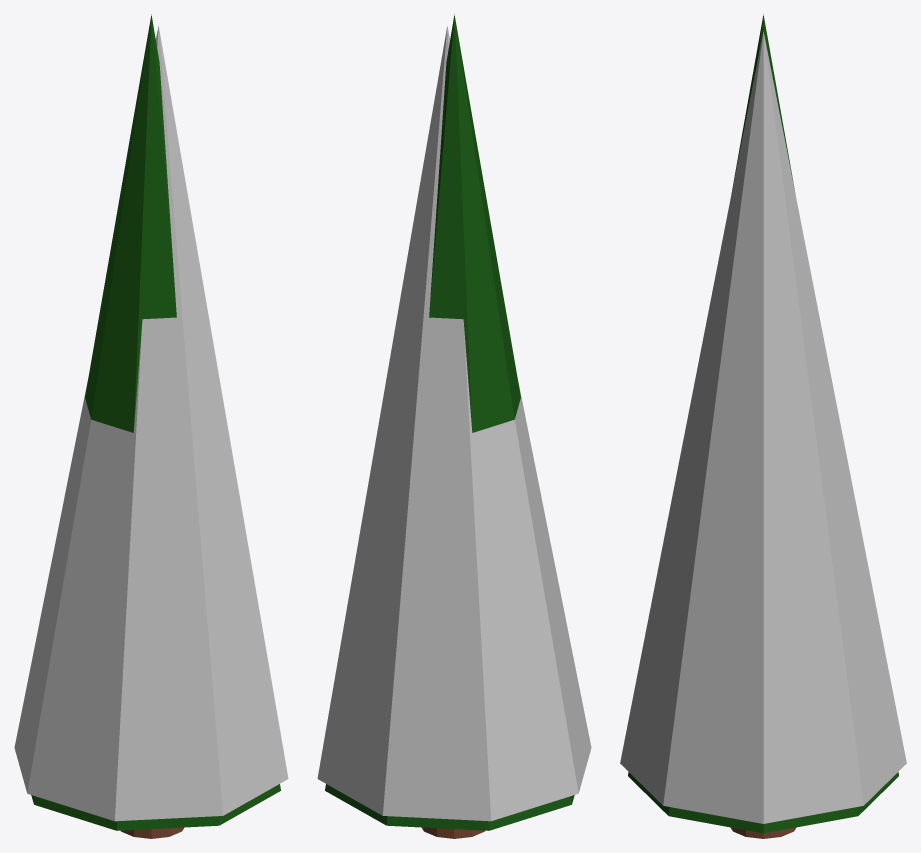
The model's file is Tree_24_winter_mat.fbx.
3 renders of one model, left to right at view 1: azimuth 30°, elevation 25°; view 2: azimuth 150°, elevation 25°; view 3: azimuth 270°, elevation 25°, orthographic.
Visible parts, largest first — view 1: Tree_24_winter_mat; view 2: Tree_24_winter_mat; view 3: Tree_24_winter_mat.
Part boxes in pixels (<box>): Tree_24_winter_mat: <box>14,14,288,838</box>; Tree_24_winter_mat: <box>317,14,591,838</box>; Tree_24_winter_mat: <box>620,14,906,838</box>.
Bounding box in the file's own units: 90.22 × 281 × 90.22.
